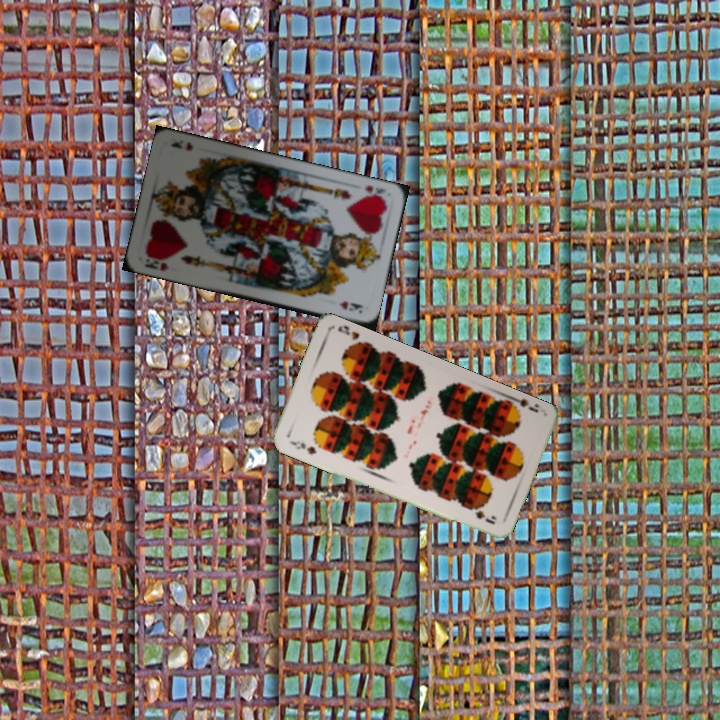HK: (360, 181, 388, 204), (141, 255, 171, 274)
S9: (505, 392, 541, 415), (285, 436, 319, 457)
